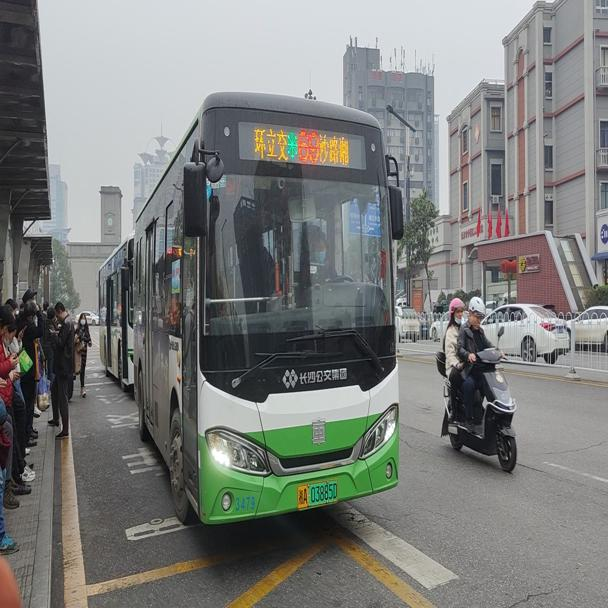bus: (135, 87, 403, 526), (97, 235, 137, 389)
screen: (296, 123, 318, 166)
